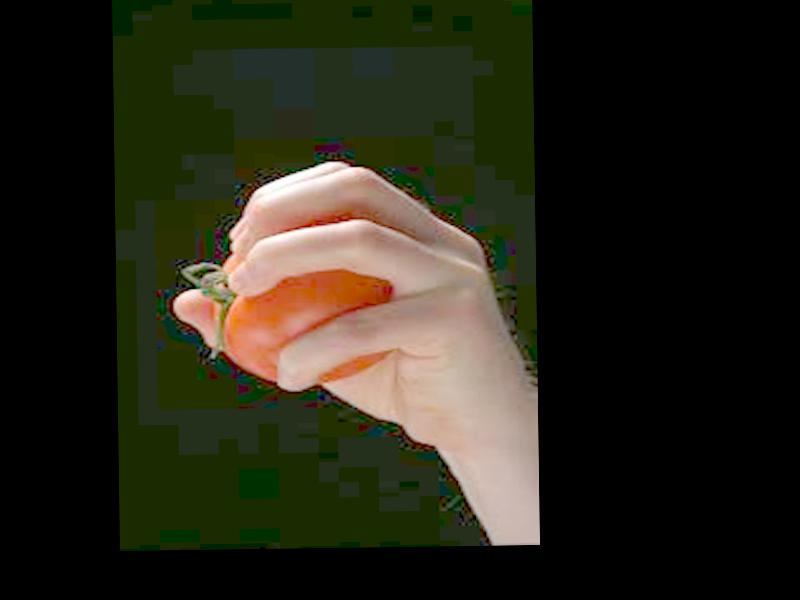Tomato: (221, 249, 400, 385)
